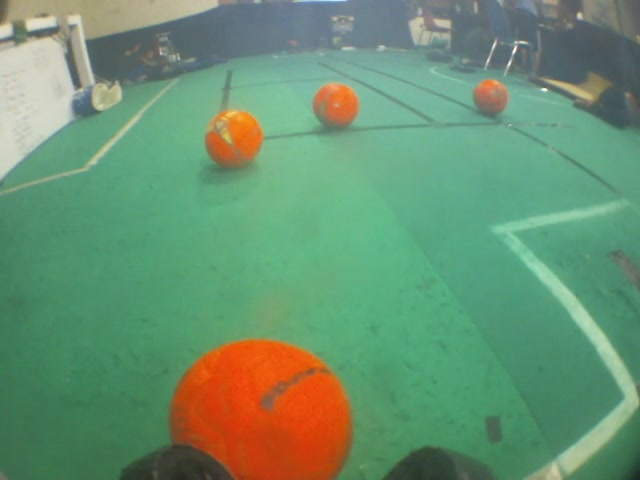ball: (165, 332, 359, 480), (201, 105, 266, 175), (306, 79, 360, 134), (469, 75, 510, 121)
